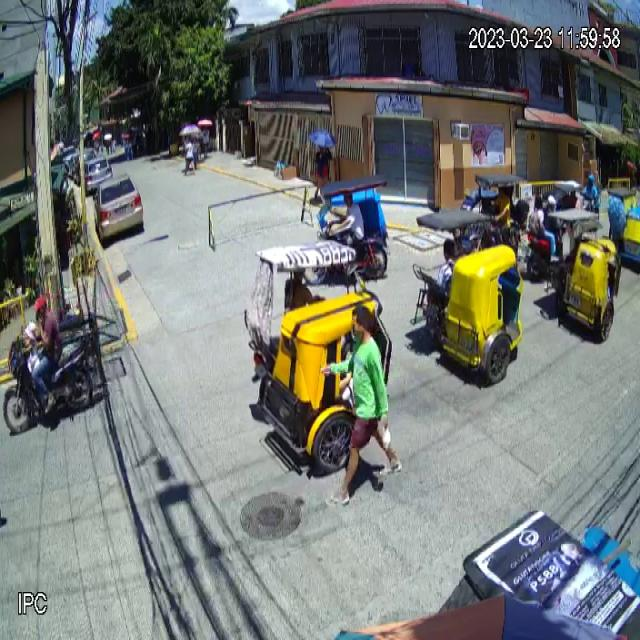Tricycle: (242, 234, 398, 477), (410, 208, 524, 382), (547, 208, 622, 343)
